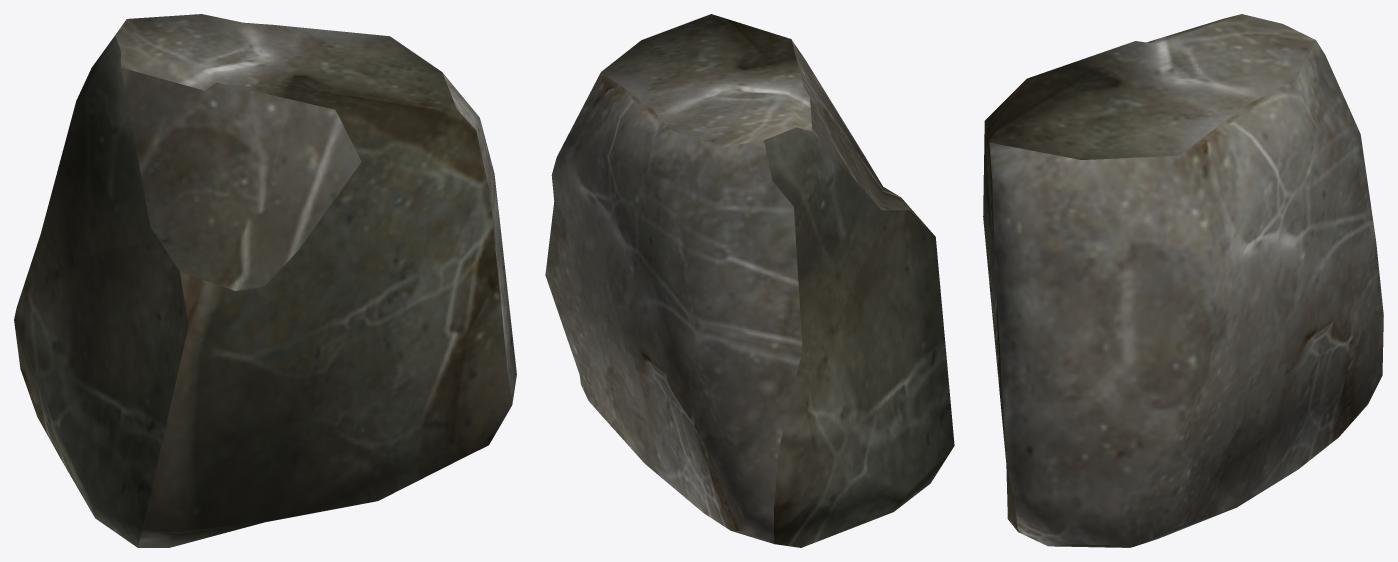
Rendered from rocks2.fbx.
3 renders of one model, left to right at view 1: azimuth 30°, elevation 25°; view 2: azimuth 150°, elevation 25°; view 3: azimuth 270°, elevation 25°, orthographic. The views are drawn at different scales.
Parts seen in each view (by area): view 1: rock02; view 2: rock02; view 3: rock02.
Part boxes in pixels (bbox=[...]): rock02: bbox=[14, 14, 516, 547]; rock02: bbox=[545, 14, 954, 547]; rock02: bbox=[983, 14, 1383, 547].
Bounding box in the file's own units: 210 × 229 × 192.
1 material, 1 textured.
